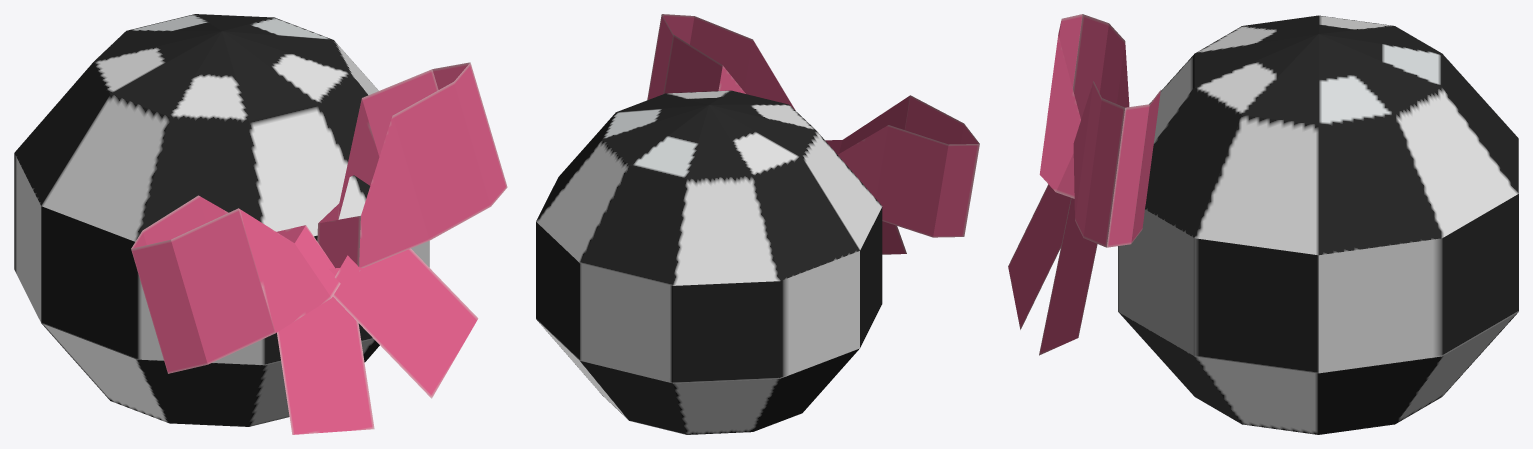
File: football.fbx
3 views of the same model, side by side, from view 1: azimuth 30°, elevation 25°; view 2: azimuth 150°, elevation 25°; view 3: azimuth 270°, elevation 25° (orthographic). The views are drawn at different scales.
Parts seen in each view (by area): view 1: sphere, bow; view 2: sphere, bow; view 3: sphere, bow.
Part boxes in pixels (x1=…): sphere: x1=14, y1=14, x2=429, y2=426; bow: x1=131, y1=62, x2=507, y2=434; sphere: x1=536, y1=90, x2=882, y2=434; bow: x1=647, y1=14, x2=979, y2=254; sphere: x1=1118, y1=15, x2=1518, y2=434; bow: x1=1008, y1=14, x2=1160, y2=355.
Size of the model in its own units: 53.72 by 50.21 by 60.55.
Materials: 1 (1 with a texture image).
